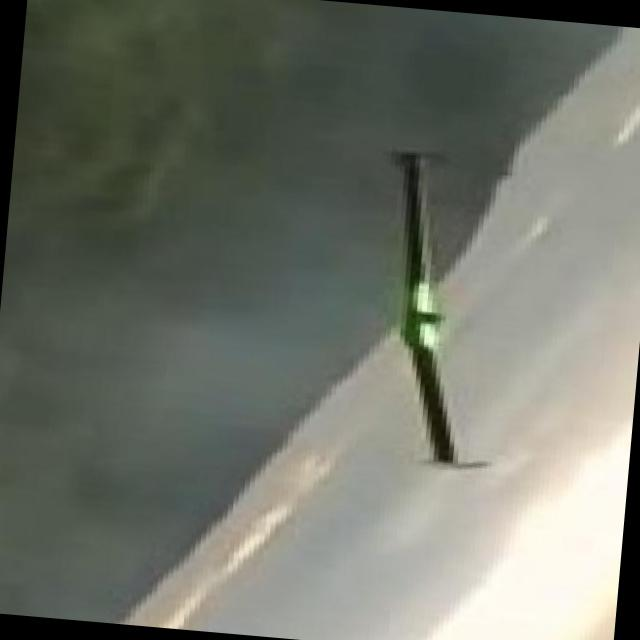UAV: (338, 136, 522, 472)
